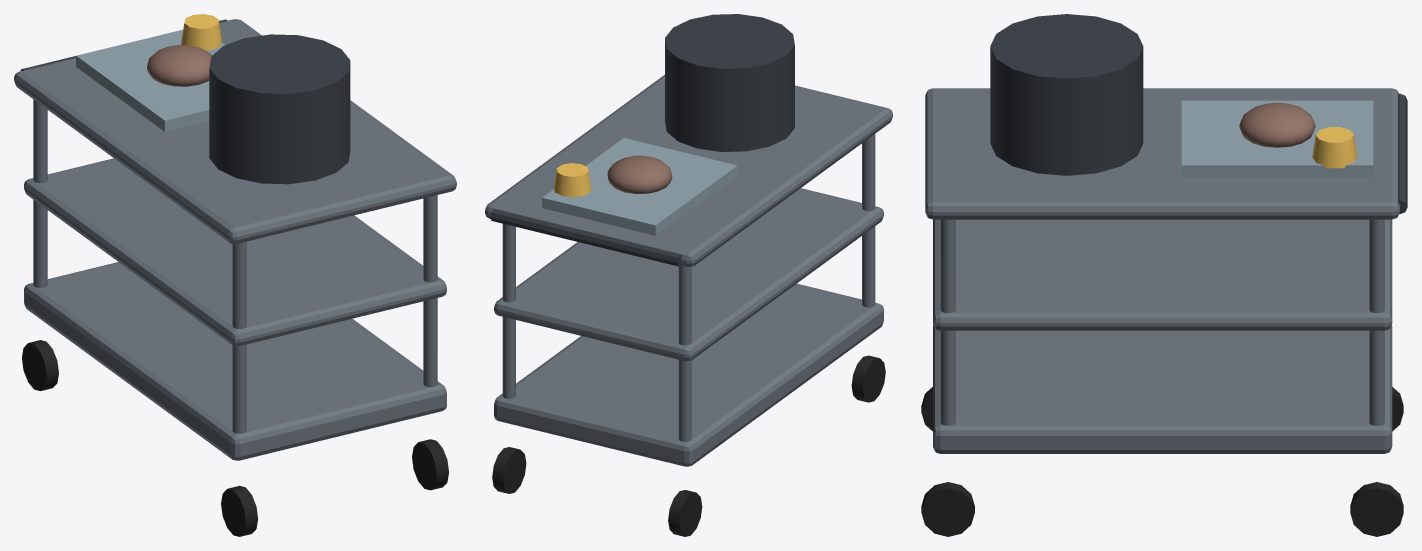
The model's file is law_cart.glb.
3 renders of one model, left to right at view 1: azimuth 30°, elevation 25°; view 2: azimuth 150°, elevation 25°; view 3: azimuth 270°, elevation 25°, orthographic. The views are drawn at different scales.
Visible parts, largest first — view 1: LawCart_body; view 2: LawCart_body; view 3: LawCart_body.
Part boxes in pixels (<box>): LawCart_body: <box>14,14,456,536</box>; LawCart_body: <box>485,14,892,536</box>; LawCart_body: <box>921,14,1407,536</box>.
Size of the model in its own units: 0.74 by 1.26 by 1.27.
